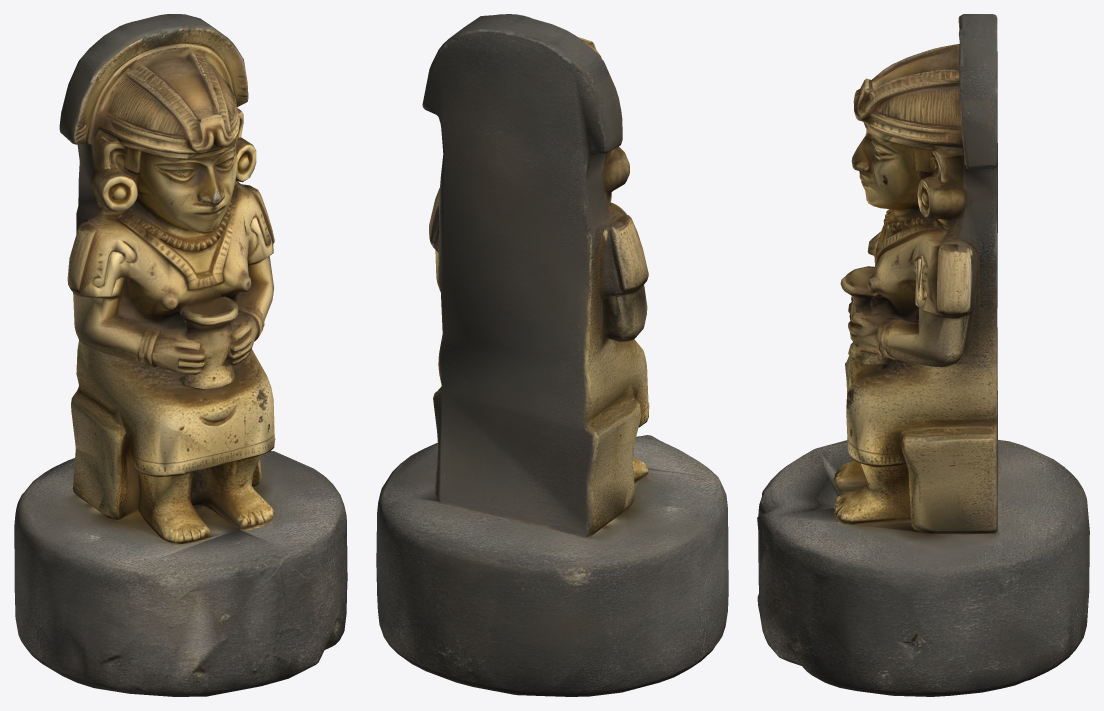
Rendered from golden_idol.glb.
The picture shows the model from 3 angles, left to right: view 1: azimuth 30°, elevation 25°; view 2: azimuth 150°, elevation 25°; view 3: azimuth 270°, elevation 25°; orthographic projection. The views are drawn at different scales.
Parts seen in each view (by area): view 1: node_0; view 2: node_0; view 3: node_0.
Boxes of the visible parts, left/top/right/bottom form: node_0: left=14, top=14, right=347, bottom=696; node_0: left=376, top=14, right=728, bottom=696; node_0: left=757, top=14, right=1089, bottom=696.
Size of the model in its own units: 0.5514 by 1.08 by 0.5402.
1 material, 1 textured.
